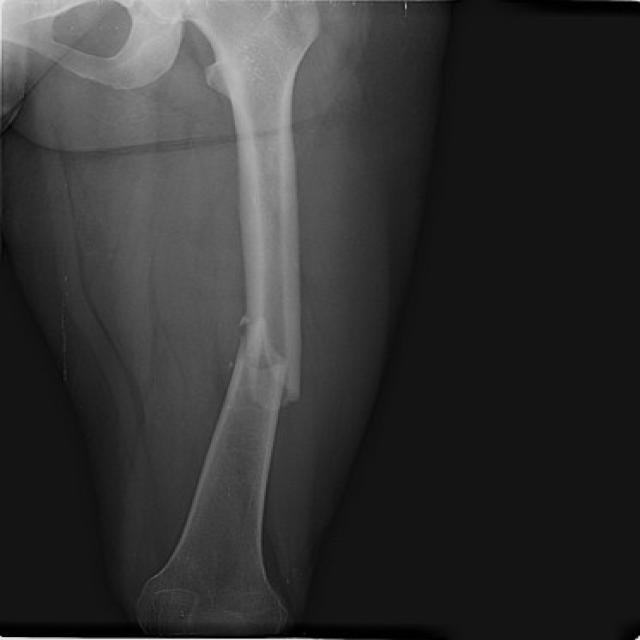bone: (204, 306, 334, 430)
